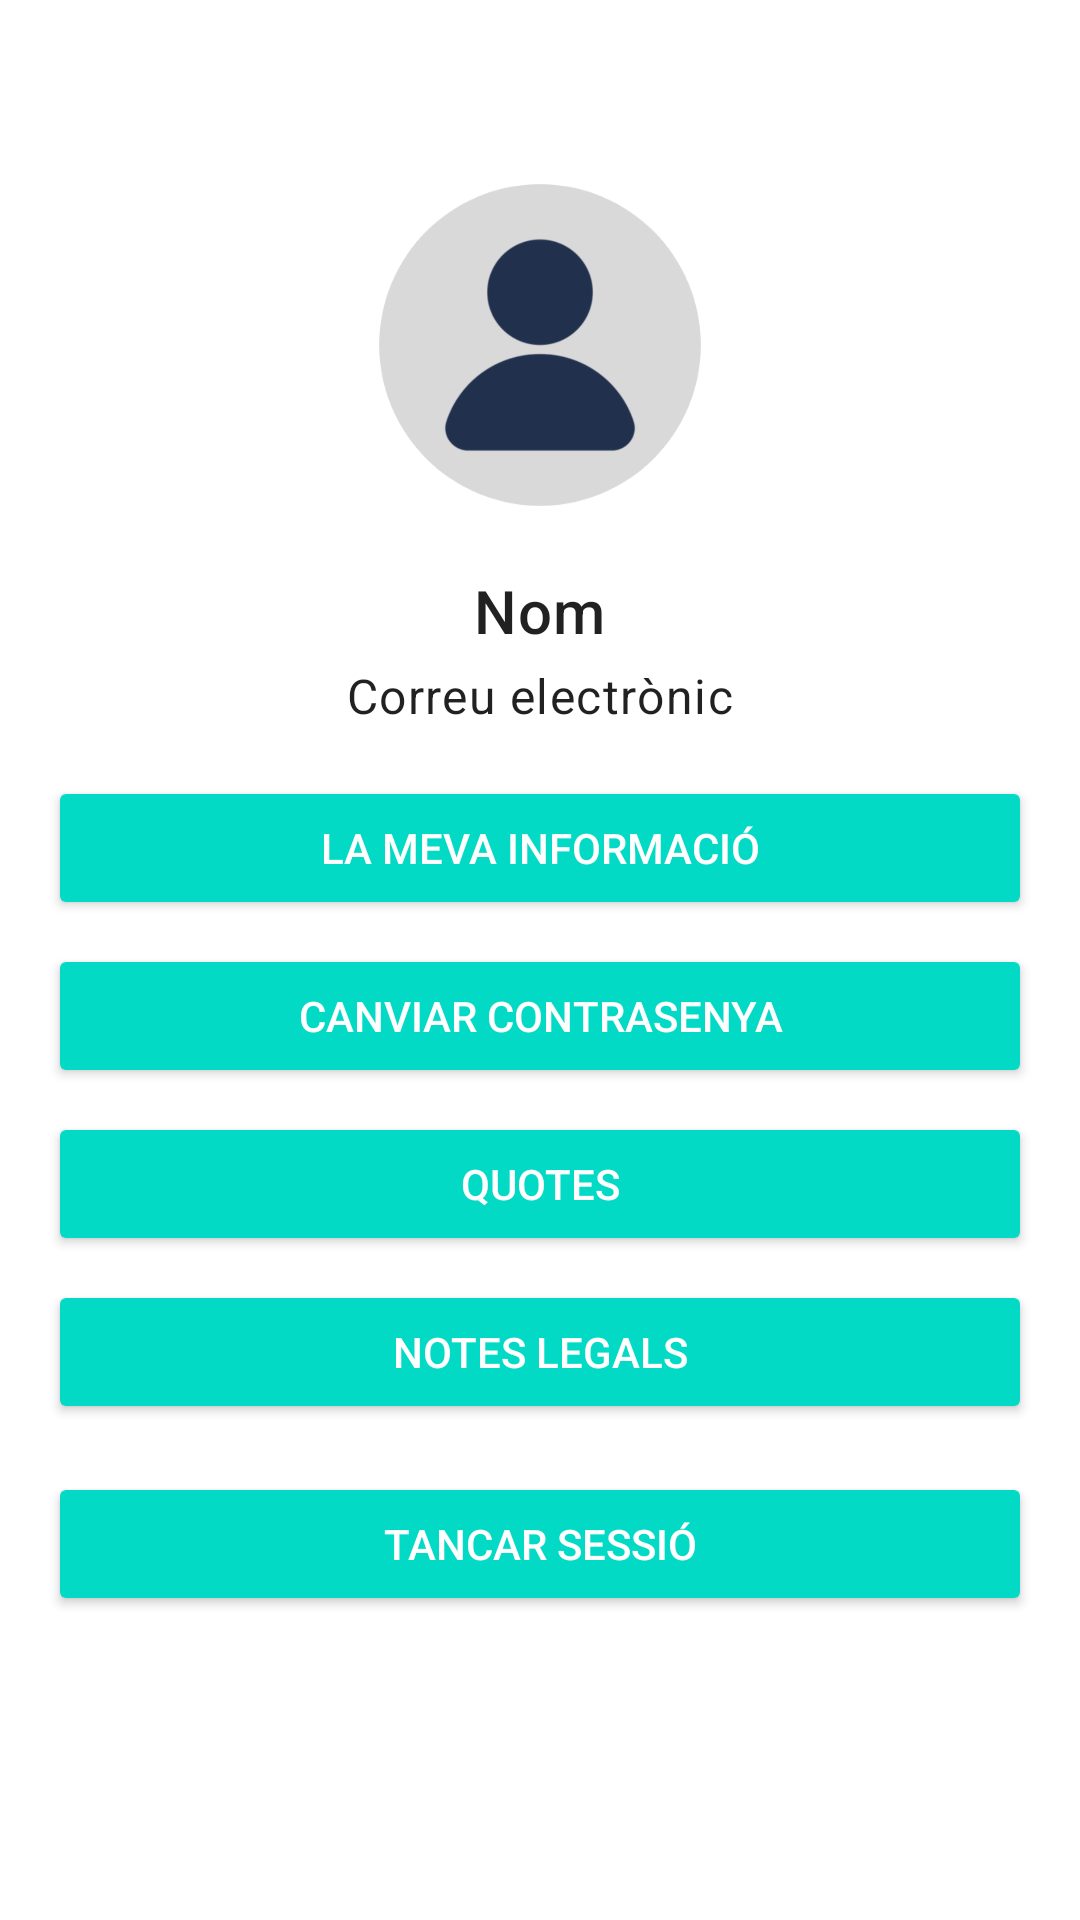

Icon click points for this 1080px×1920px phone screenshot, format (x,y):
usuario: (540,345)
